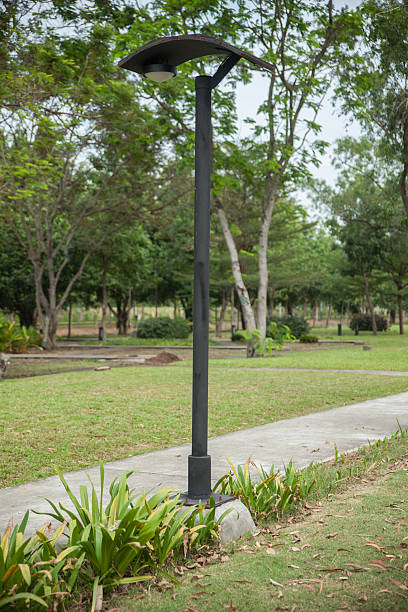light_pole: (188, 95, 214, 500)
